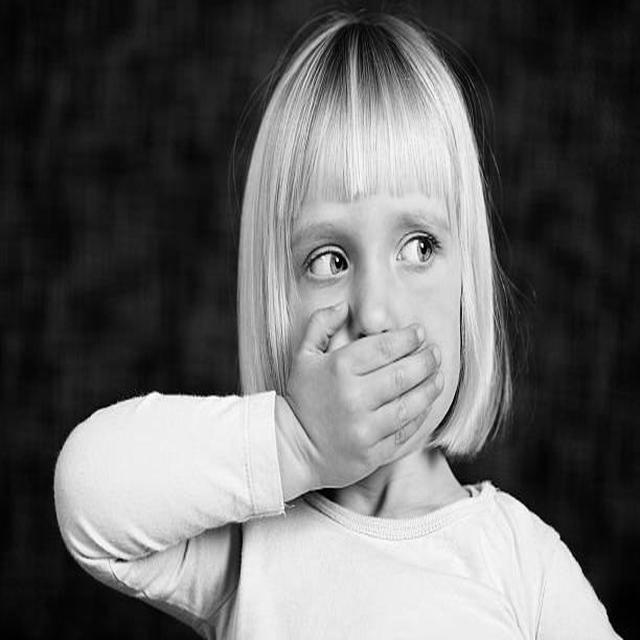Fear: (277, 142, 462, 467)
